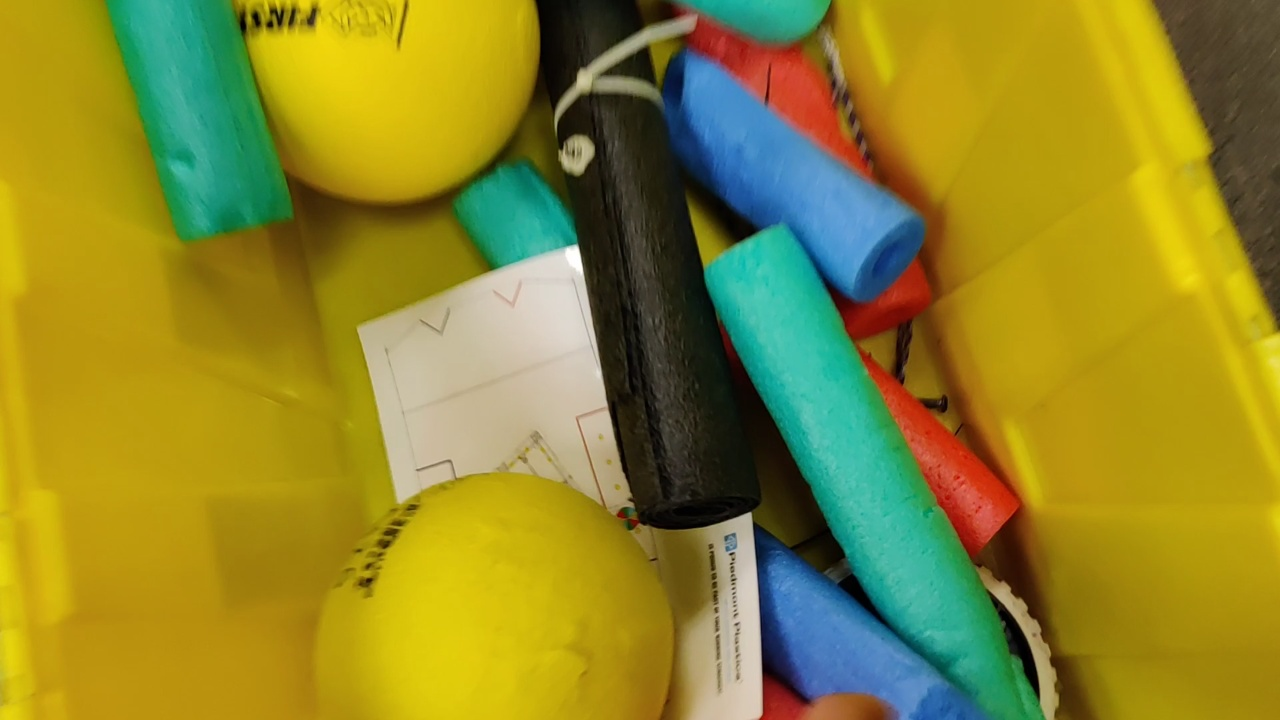Ball: (311, 470, 679, 719)
